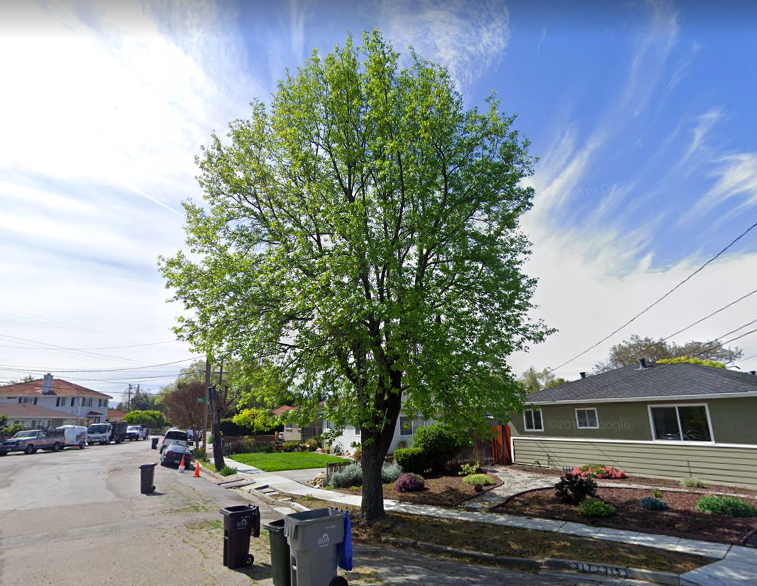tree: (155, 25, 560, 524)
